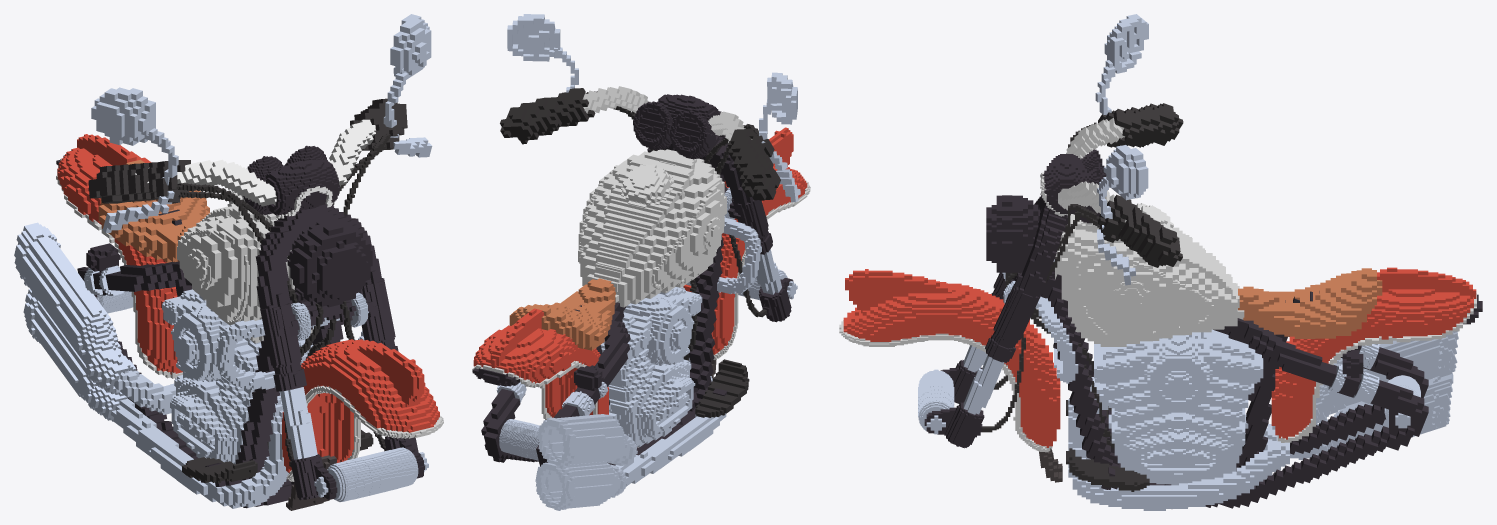
File: new_motor_body.fbx
3 views of the same model, side by side, from view 1: azimuth 30°, elevation 25°; view 2: azimuth 150°, elevation 25°; view 3: azimuth 270°, elevation 25° (orthographic). The views are drawn at different scales.
Parts seen in each view (by area): view 1: Cube.011, Circle.011, Cylinder.001, NurbsPath.013, Plane.010, Cube.013, Cylinder.016, Plane.007, Circle.015, Cylinder.027, Cylinder.018, Plane.009 (+25 smaller); view 2: Cube.011, Cube.013, Plane.010, Cylinder.018, Cube.009, Circle.015, Cylinder.001, Cube.012, Cylinder.014, Cylinder.027, Circle.011, NurbsPath.013 (+24 smaller); view 3: Cube.011, Plane.010, Cube.013, Circle.011, Circle.015, Cube.012, NurbsPath.013, Cylinder.018, Cylinder.027, Cylinder.016, Cylinder.001, Plane.007 (+21 smaller).
Part boxes in pixels (x1=…): Cube.011: x1=162, y1=289, x2=313, y2=464; Circle.011: x1=282, y1=339, x2=439, y2=473; Cylinder.001: x1=14, y1=222, x2=136, y2=394; NurbsPath.013: x1=111, y1=370, x2=288, y2=508; Plane.010: x1=77, y1=209, x2=343, y2=508; Cube.013: x1=177, y1=214, x2=313, y2=343; Cylinder.016: x1=287, y1=221, x2=372, y2=307; Plane.007: x1=255, y1=204, x2=386, y2=337; Circle.015: x1=57, y1=147, x2=182, y2=374; Cylinder.027: x1=91, y1=14, x2=431, y2=145; Cylinder.018: x1=88, y1=98, x2=407, y2=203; Plane.009: x1=135, y1=119, x2=375, y2=206; Cube.011: x1=600, y1=286, x2=702, y2=447; Cube.013: x1=578, y1=150, x2=726, y2=307; Plane.010: x1=481, y1=235, x2=727, y2=466; Cylinder.018: x1=500, y1=88, x2=780, y2=200; Cube.009: x1=592, y1=149, x2=696, y2=292; Circle.015: x1=473, y1=322, x2=608, y2=417; Cylinder.001: x1=537, y1=414, x2=637, y2=467; Cube.012: x1=509, y1=278, x2=615, y2=350; Cylinder.014: x1=535, y1=461, x2=626, y2=510; Cylinder.027: x1=507, y1=14, x2=797, y2=124; Circle.011: x1=683, y1=164, x2=807, y2=354; NurbsPath.013: x1=615, y1=343, x2=726, y2=486; Cube.011: x1=1094, y1=329, x2=1263, y2=485; Plane.010: x1=1041, y1=269, x2=1428, y2=508; Cube.013: x1=1055, y1=220, x2=1244, y2=346; Circle.011: x1=843, y1=282, x2=1060, y2=447; Circle.015: x1=1271, y1=289, x2=1473, y2=439; Cube.012: x1=1238, y1=268, x2=1382, y2=338; NurbsPath.013: x1=1068, y1=377, x2=1316, y2=510; Cylinder.018: x1=1098, y1=103, x2=1183, y2=267; Cylinder.027: x1=1103, y1=14, x2=1148, y2=200; Cylinder.016: x1=986, y1=195, x2=1040, y2=272; Cylinder.001: x1=1307, y1=331, x2=1458, y2=425; Plane.007: x1=1004, y1=195, x2=1070, y2=315.
Bounding box in the file's own units: 127 × 160 × 230.
